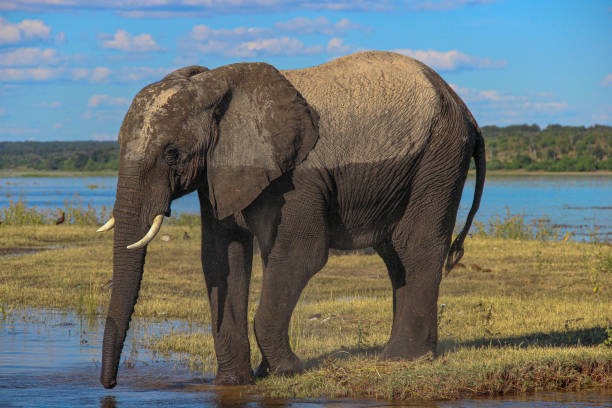africanelephant: (58, 77, 287, 266)
